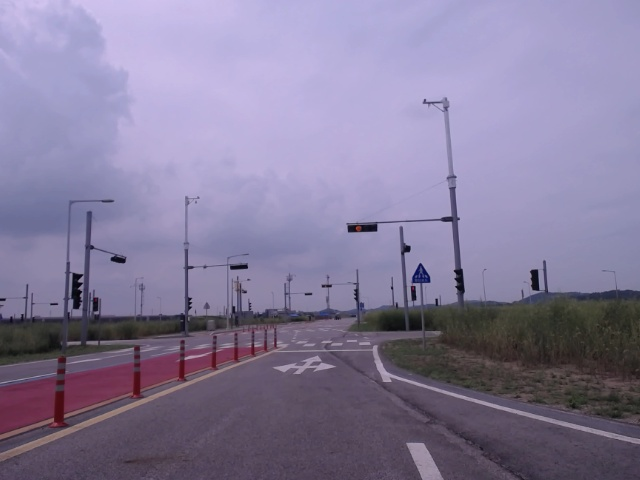orange_4: (346, 221, 379, 233), (321, 284, 332, 289)
